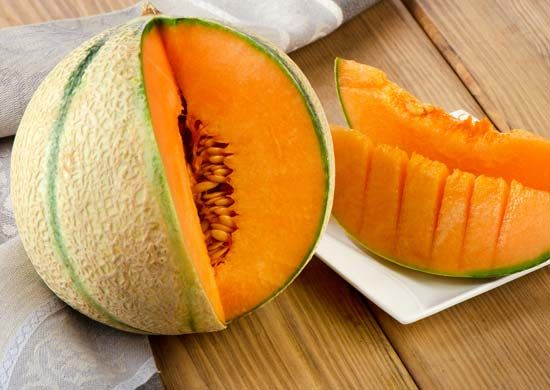Melon: (313, 120, 542, 299), (333, 43, 550, 187)
